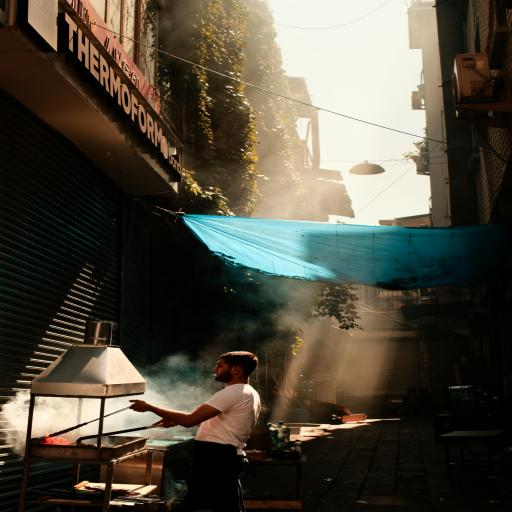fire: (21, 422, 88, 464)
smoke: (105, 354, 202, 414), (104, 408, 161, 432), (72, 400, 99, 425)
